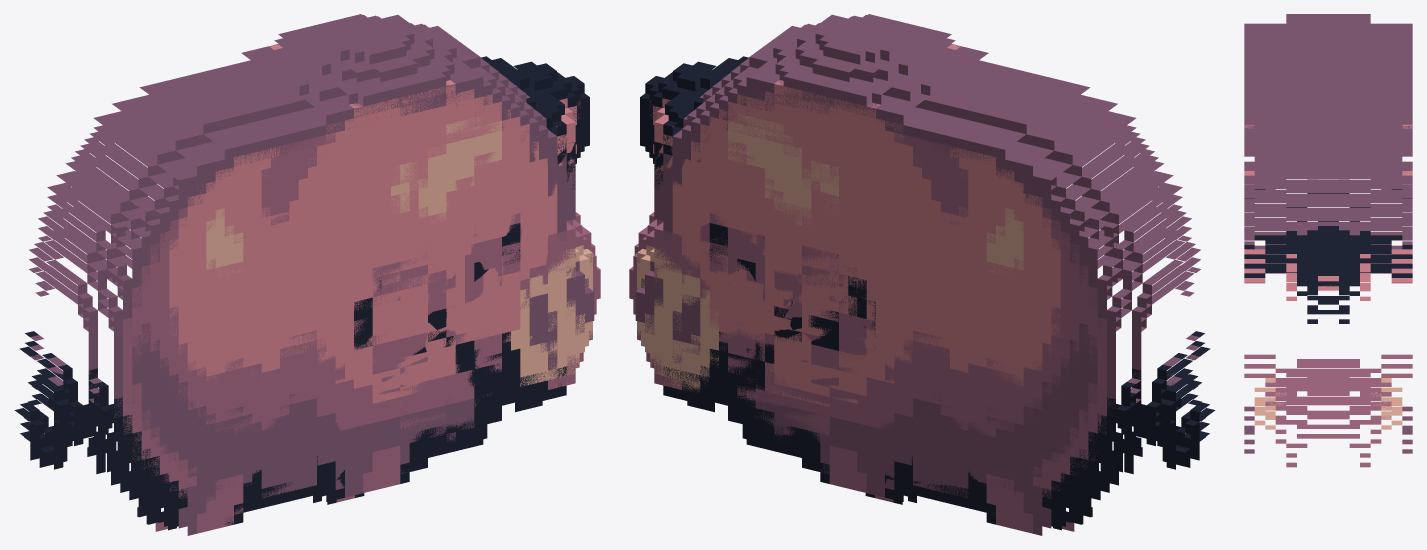
The model's file is porco_parado.glb.
The picture shows the model from 3 angles, left to right: view 1: azimuth 30°, elevation 25°; view 2: azimuth 150°, elevation 25°; view 3: azimuth 270°, elevation 25°; orthographic projection.
Parts seen in each view (by area): view 1: q0, q4, q2, q3, q7, q5, q6, q8; view 2: q0, q4, q2, q3, q5, q7, q6, q8; view 3: q0, q2, q3, q7, q6, q4.
Part boxes in pixels (<box>): q0: <box>20,14,600,531</box>; q4: <box>66,44,592,535</box>; q2: <box>93,17,600,480</box>; q3: <box>141,44,600,479</box>; q7: <box>19,14,592,522</box>; q5: <box>14,47,520,534</box>; q6: <box>20,48,591,489</box>; q8: <box>20,73,547,502</box>; q0: <box>629,14,1209,531</box>; q4: <box>637,53,1162,535</box>; q2: <box>629,18,1139,478</box>; q3: <box>629,48,1088,478</box>; q5: <box>701,47,1215,535</box>; q7: <box>637,14,1210,522</box>; q6: <box>637,48,1209,490</box>; q8: <box>673,65,1209,502</box>; q0: <box>1244,14,1412,447</box>; q2: <box>1244,62,1412,457</box>; q3: <box>1244,17,1412,467</box>; q7: <box>1244,44,1412,413</box>; q6: <box>1244,115,1412,422</box>; q4: <box>1244,115,1412,323</box>.
Size of the model in its own units: 60 by 46 by 16.
1 material, 1 textured.
